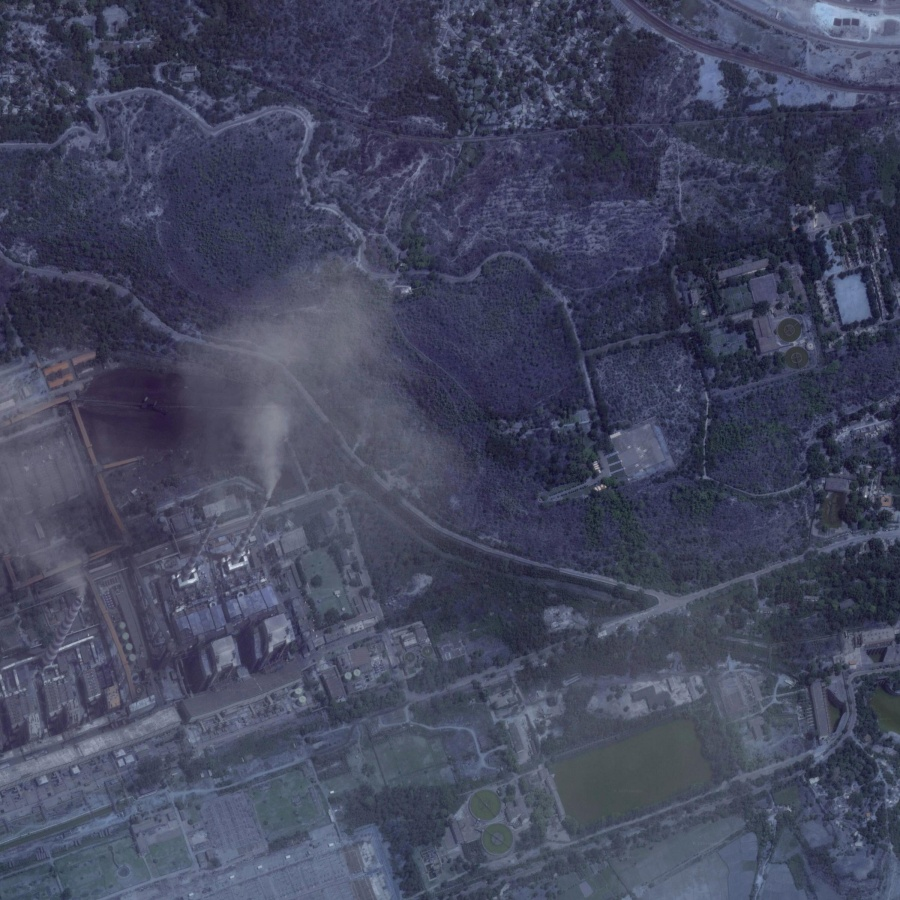PowerPlant: (539, 697, 721, 845)
